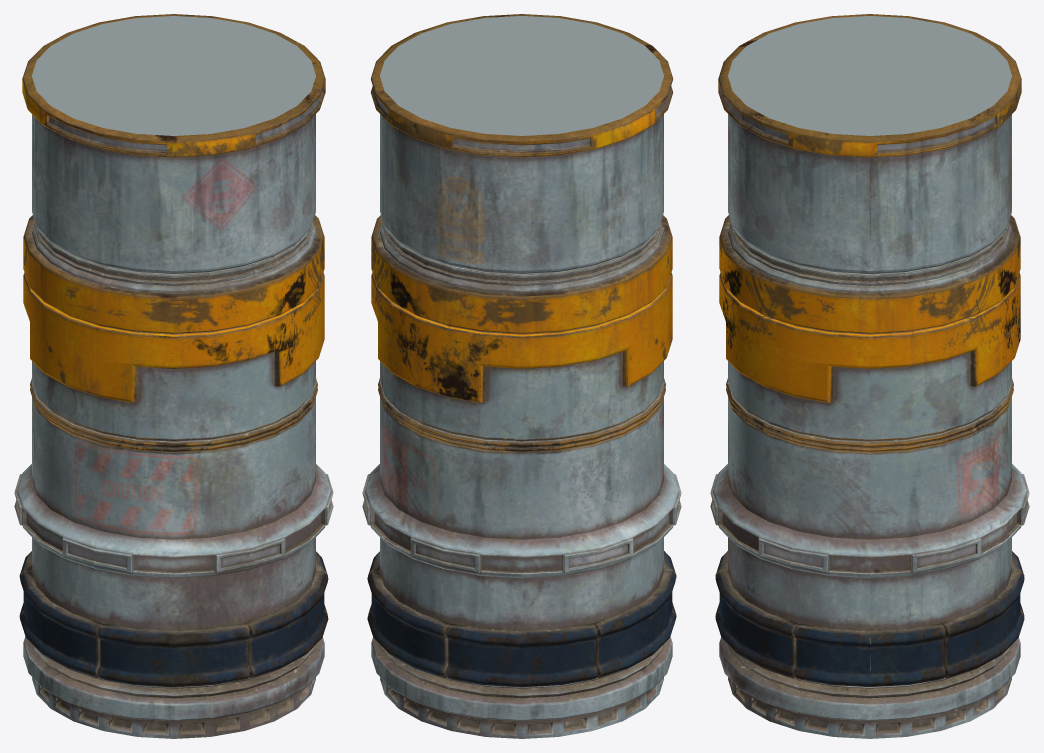
Rendered from SM_Distillery_Tower_Water_Tank.fbx.
3 renders of one model, left to right at view 1: azimuth 30°, elevation 25°; view 2: azimuth 150°, elevation 25°; view 3: azimuth 270°, elevation 25°, orthographic.
Parts seen in each view (by area): view 1: SM_Distillery_Tower_Water_Tank_LOD0; view 2: SM_Distillery_Tower_Water_Tank_LOD0; view 3: SM_Distillery_Tower_Water_Tank_LOD0.
Part boxes in pixels (x1=…): SM_Distillery_Tower_Water_Tank_LOD0: x1=14, y1=14, x2=333, y2=738; SM_Distillery_Tower_Water_Tank_LOD0: x1=362, y1=14, x2=681, y2=738; SM_Distillery_Tower_Water_Tank_LOD0: x1=710, y1=14, x2=1029, y2=738.
Size of the model in its own units: 286 by 290 by 606.
1 material, 1 textured.
